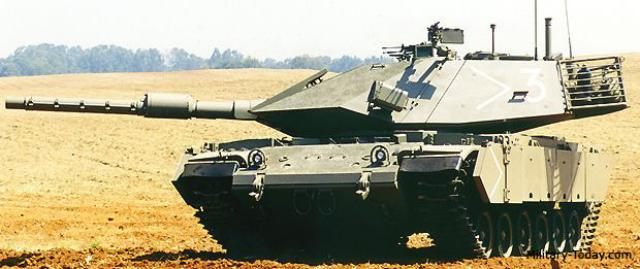tank: (183, 18, 629, 257)
